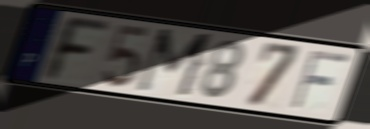5: (98, 22, 153, 90)
7: (246, 39, 305, 110)
8: (199, 38, 247, 101)
F: (43, 13, 112, 84), (287, 48, 354, 113)
M: (132, 26, 217, 101)
